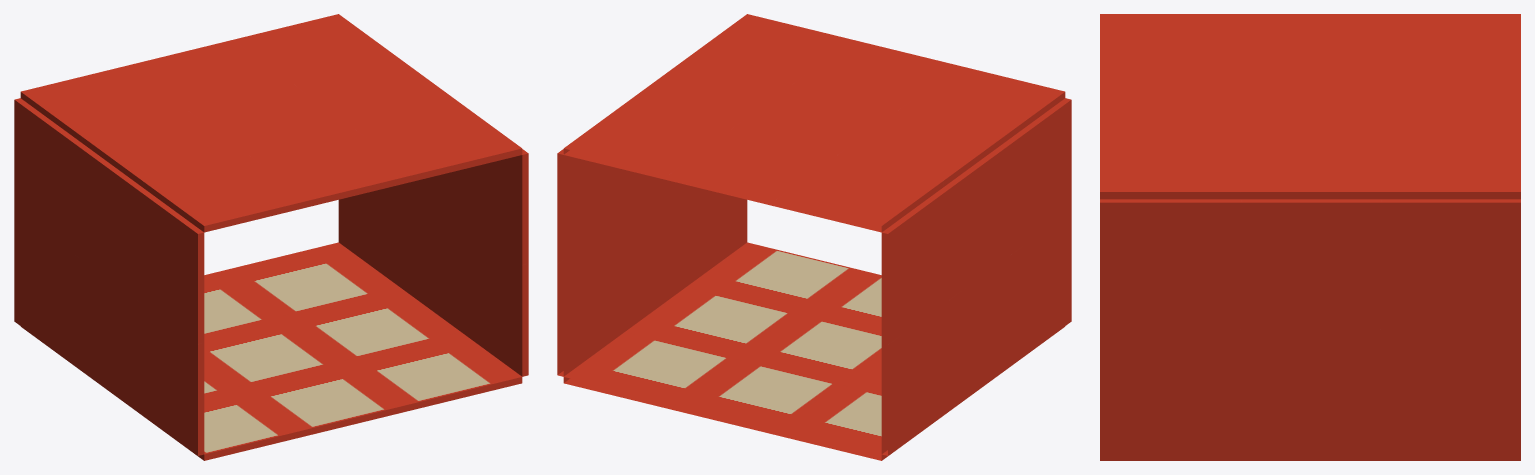
File: CorredorMenor.fbx
3 views of the same model, side by side, from view 1: azimuth 30°, elevation 25°; view 2: azimuth 150°, elevation 25°; view 3: azimuth 270°, elevation 25° (orthographic). The views are drawn at different scales.
Visible parts, largest first — view 1: CorredorMenor; view 2: CorredorMenor; view 3: CorredorMenor.
Part boxes in pixels (x1,y1,x2,y2): CorredorMenor: (14, 14, 528, 460); CorredorMenor: (557, 14, 1071, 460); CorredorMenor: (1100, 14, 1520, 460).
Bounding box in the file's own units: 623 × 423 × 600.
